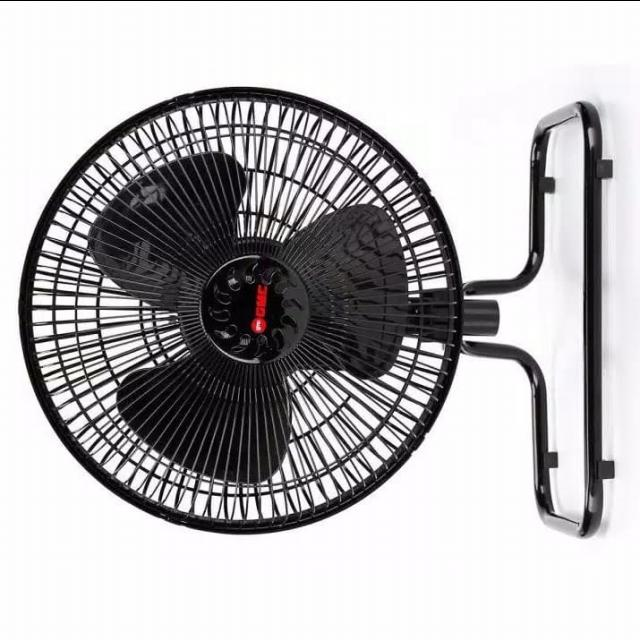fan: (19, 80, 612, 530)
